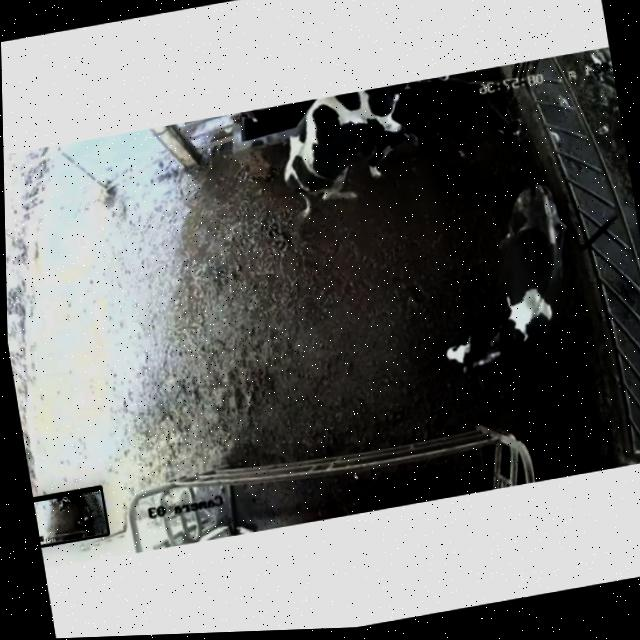ride: (265, 75, 470, 225)
stand: (412, 174, 593, 388), (374, 70, 540, 192)
